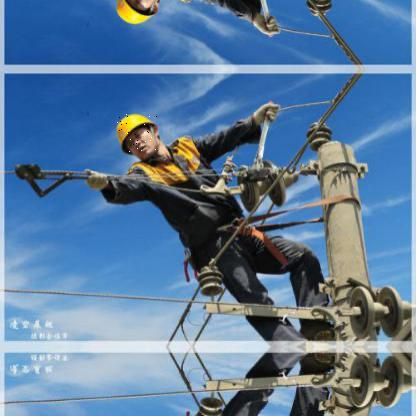safetyhelmet: (117, 115, 158, 154)
